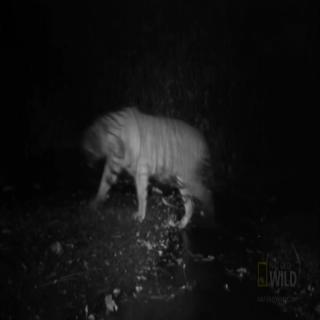Tiger: (78, 83, 215, 241)
